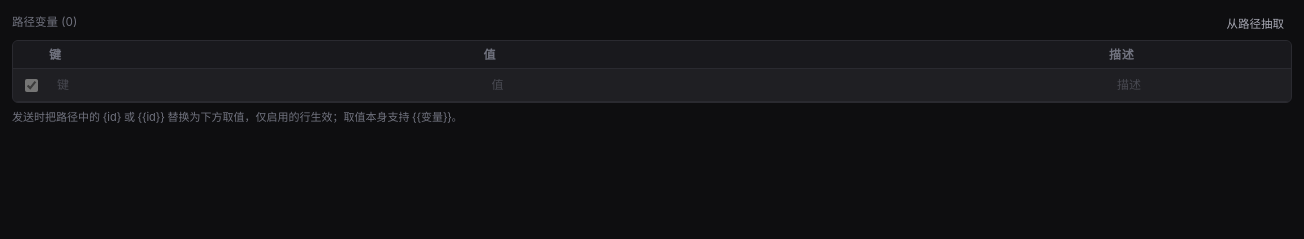
Scenario: PathVariablesPanel › 从路径抽取 :id / {id} / {{id}} 三种占位（端口与查询串不误判）
Click the button "从路径抽取".
click(1255, 23)  # box [1218,12,1292,34]
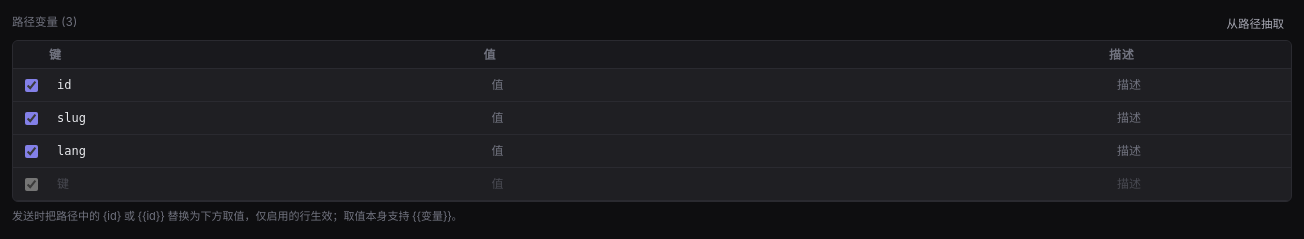
Expected: the text "路径变量 (3)" is shown, [12,14,78,32]
